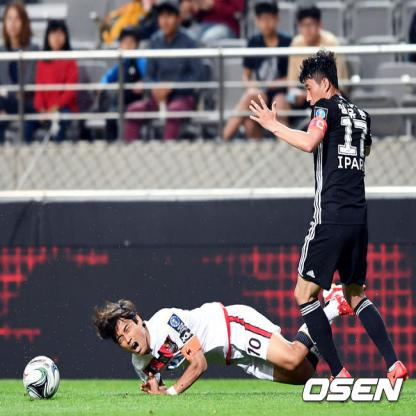Fall_Down: (96, 280, 372, 401)
